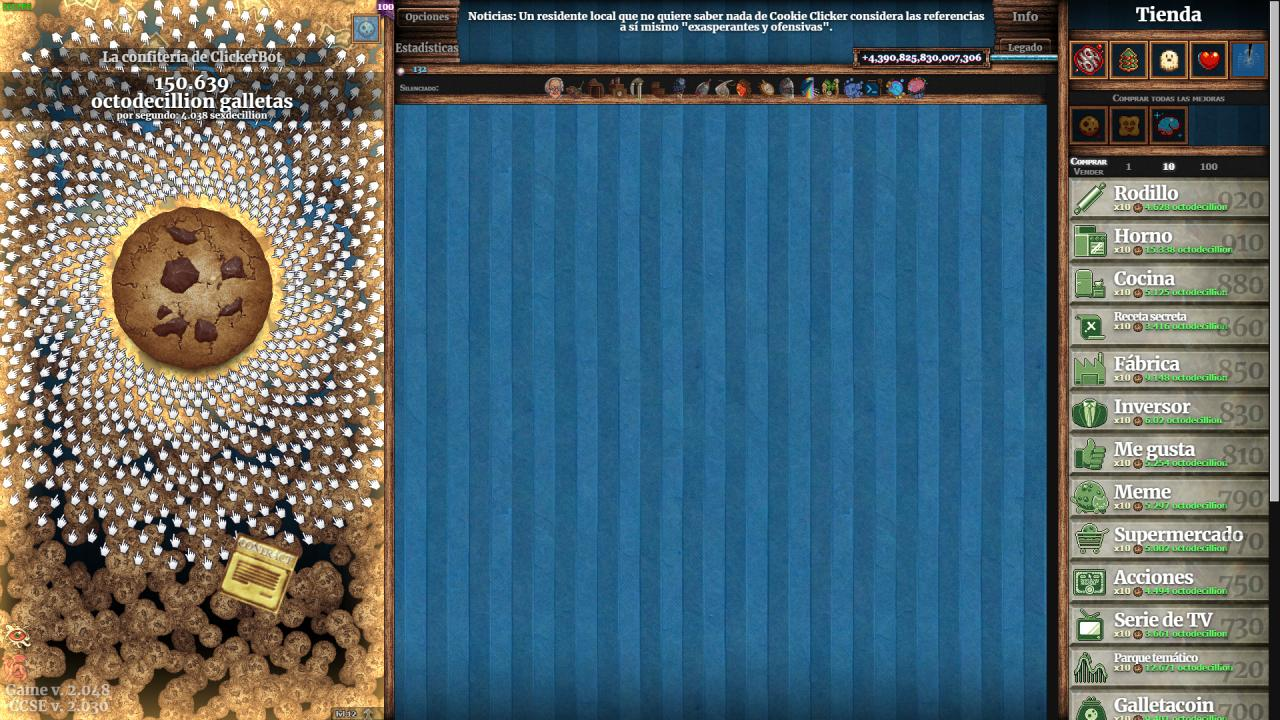GoldenCartridge: (216, 533, 300, 616)
